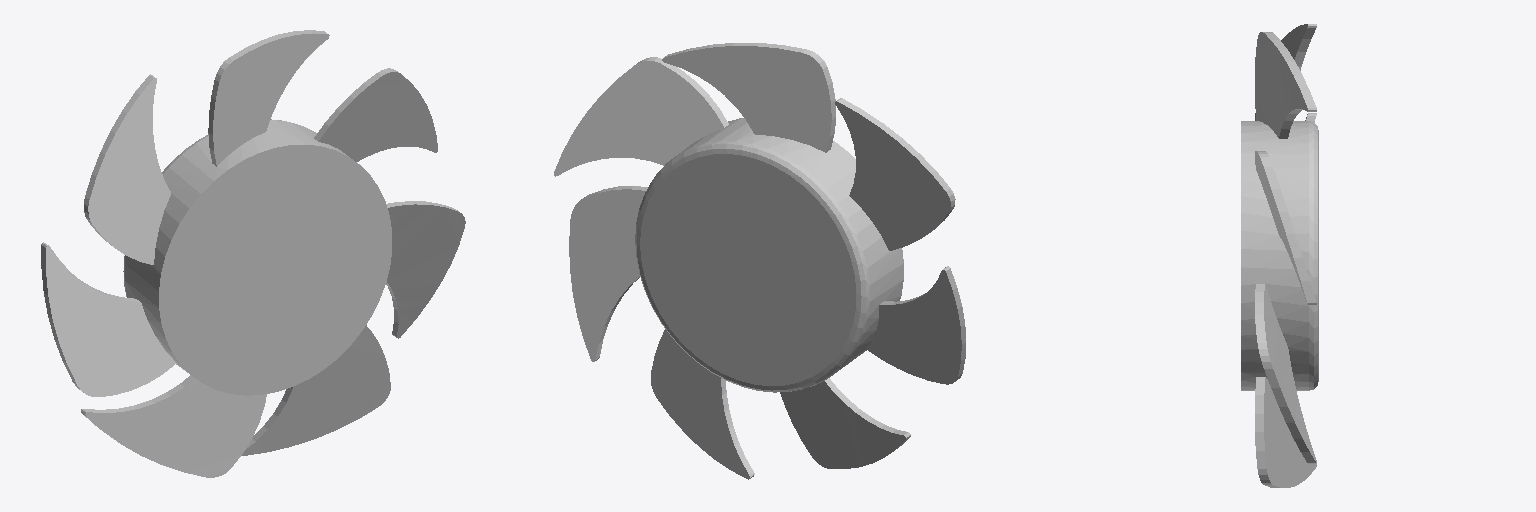
Rendered from bear21_mk3s_simulator_hotend-fan-blade.obj.
3 renders of one model, left to right at view 1: azimuth 30°, elevation 25°; view 2: azimuth 150°, elevation 25°; view 3: azimuth 270°, elevation 25°, orthographic.
Parts seen in each view (by area): view 1: sunon_mf4010_no_blade_v2_Body2_0; view 2: sunon_mf4010_no_blade_v2_Body2_0; view 3: sunon_mf4010_no_blade_v2_Body2_0.
Part boxes in pixels (x1,y1,x2,y2): sunon_mf4010_no_blade_v2_Body2_0: (41, 30, 465, 477); sunon_mf4010_no_blade_v2_Body2_0: (554, 43, 965, 479); sunon_mf4010_no_blade_v2_Body2_0: (1241, 24, 1318, 487).
Bounding box in the file's own units: 3.7 × 3.7 × 0.62.